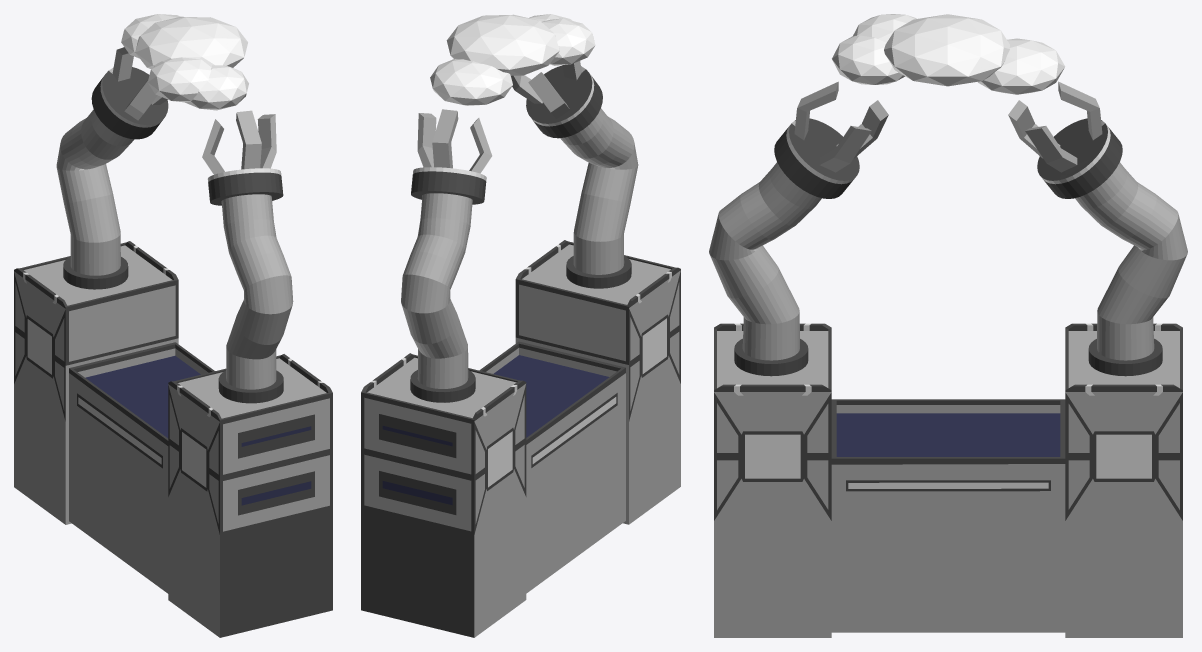
Rendered from SM_CloudJucer.fbx.
The picture shows the model from 3 angles, left to right: view 1: azimuth 30°, elevation 25°; view 2: azimuth 150°, elevation 25°; view 3: azimuth 270°, elevation 25°; orthographic projection. The views are drawn at different scales.
Visible parts, largest first — view 1: Cube.002, Icosphere; view 2: Cube.002, Icosphere; view 3: Cube.002, Icosphere.
Boxes of the visible parts, bbox=[...] form: Cube.002: bbox=[14, 47, 332, 637]; Icosphere: bbox=[121, 14, 248, 110]; Cube.002: bbox=[361, 61, 680, 637]; Icosphere: bbox=[430, 14, 595, 105]; Cube.002: bbox=[709, 81, 1187, 637]; Icosphere: bbox=[832, 14, 1065, 94].
Size of the model in its own units: 822 by 3337 by 2455.
